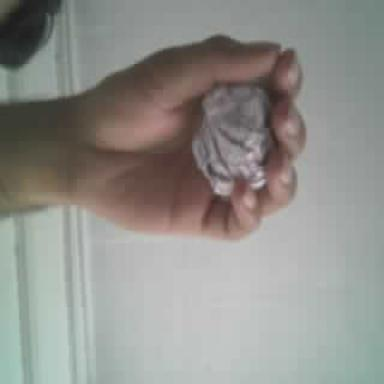paper: (192, 82, 274, 197)
